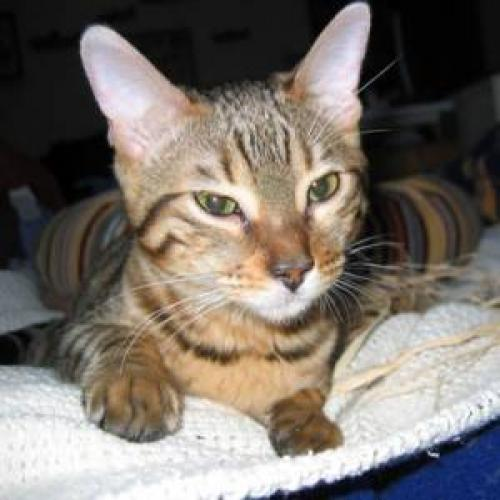bengal: (67, 1, 410, 340)
